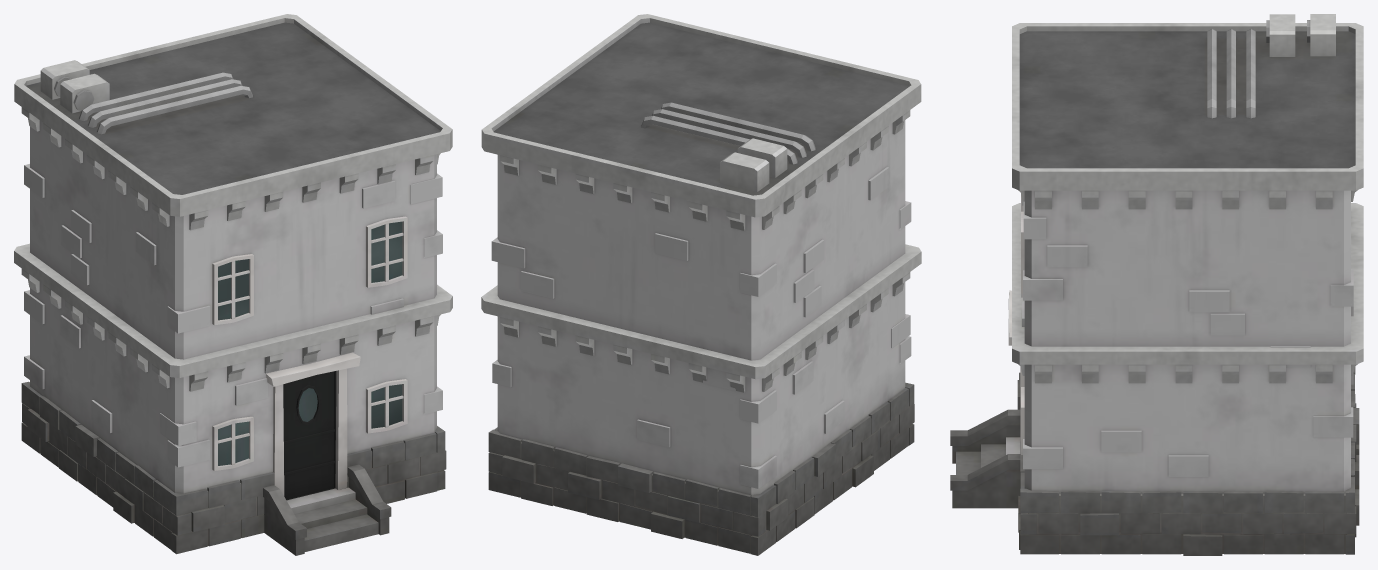
File: 2Story_Stairs.glb
The picture shows the model from 3 angles, left to right: view 1: azimuth 30°, elevation 25°; view 2: azimuth 150°, elevation 25°; view 3: azimuth 270°, elevation 25°; orthographic projection. The views are drawn at different scales.
Visible parts, largest first — view 1: 2Story_Stairs_high; view 2: 2Story_Stairs_high; view 3: 2Story_Stairs_high.
Boxes of the visible parts, <box> form: 2Story_Stairs_high: <box>14,14,452,555</box>; 2Story_Stairs_high: <box>481,14,921,555</box>; 2Story_Stairs_high: <box>950,14,1363,555</box>.
Size of the model in its own units: 2.16 by 2.75 by 2.53.
2 materials, 2 textured.
